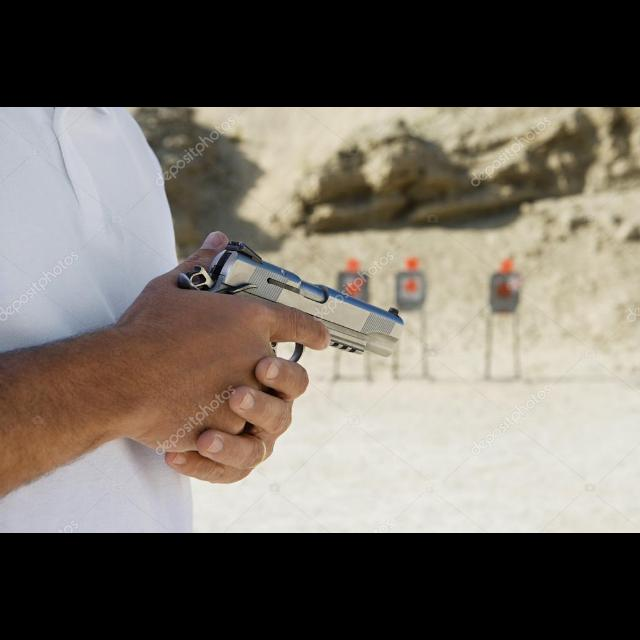handgun: (174, 238, 408, 372)
